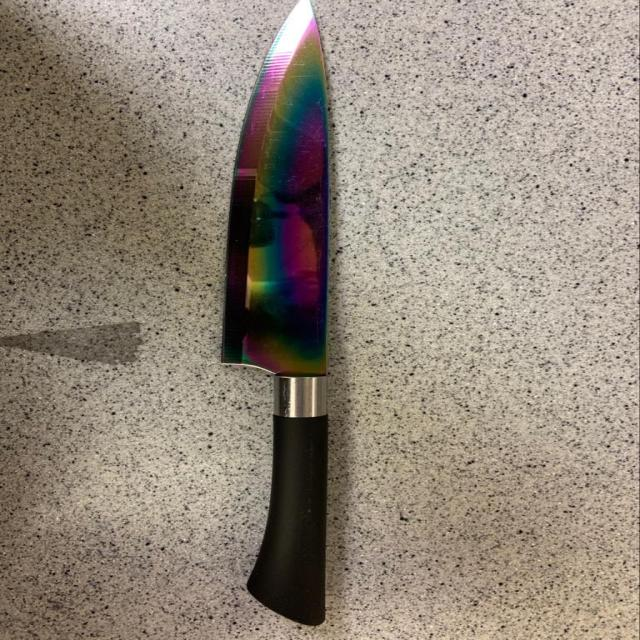Sharp-Object: (224, 0, 337, 623)
